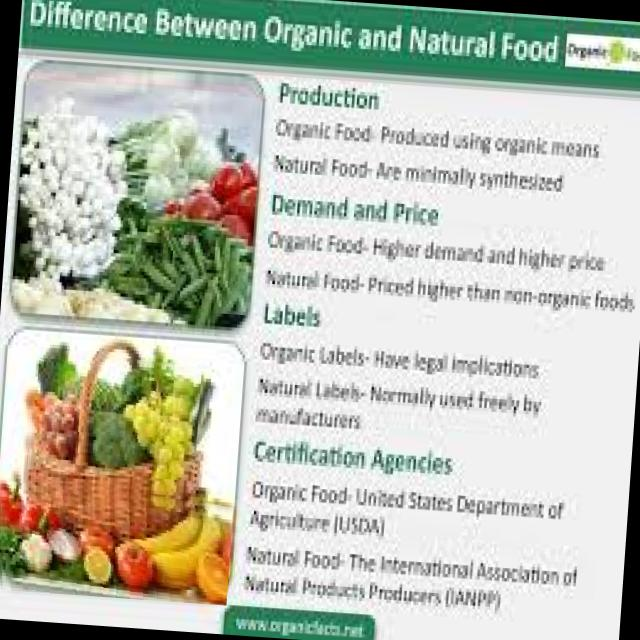Organic: (0, 473, 234, 605), (22, 346, 202, 481)
